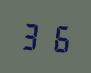six: (45, 20, 70, 54)
three: (19, 18, 44, 52)
